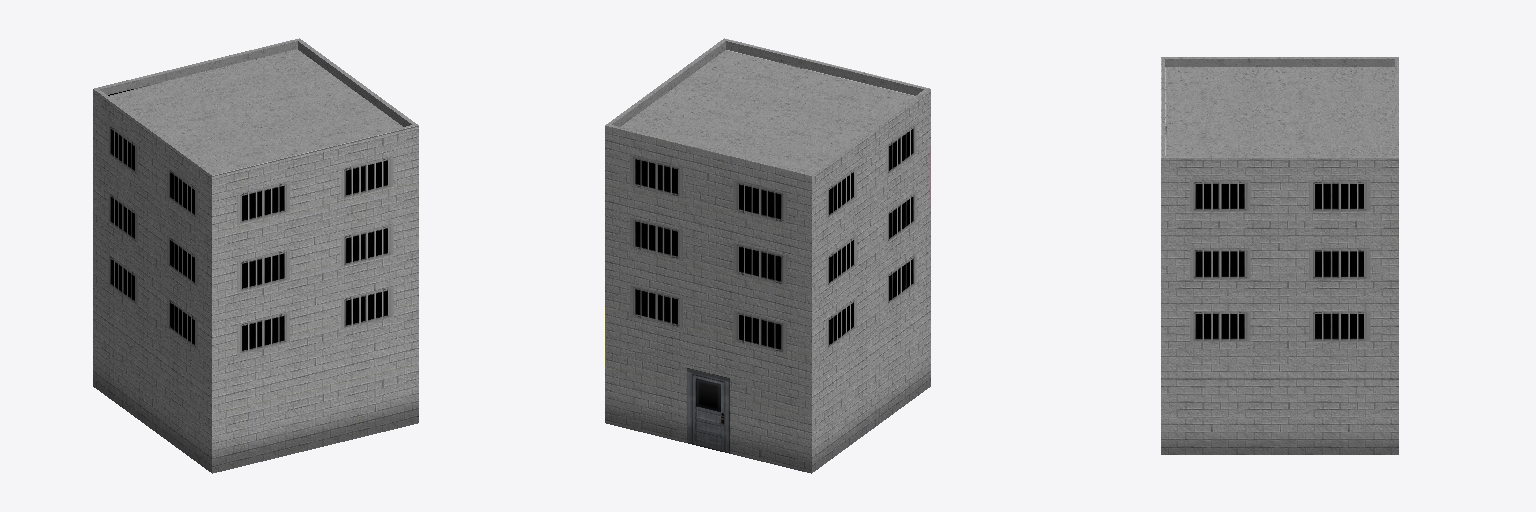
The picture shows the model from 3 angles: view 1: azimuth 30°, elevation 25°; view 2: azimuth 150°, elevation 25°; view 3: azimuth 270°, elevation 25°; orthographic projection.
Parts seen in each view (by area): view 1: Cube.001; view 2: Cube.001; view 3: Cube.001.
Boxes of the visible parts, x1=… form: Cube.001: x1=93, y1=38, x2=418, y2=473; Cube.001: x1=605, y1=38, x2=930, y2=473; Cube.001: x1=1161, y1=57, x2=1398, y2=454.
Bounding box in the file's own units: 8.49 × 11.68 × 8.49.
Materials: 1 (1 with a texture image).